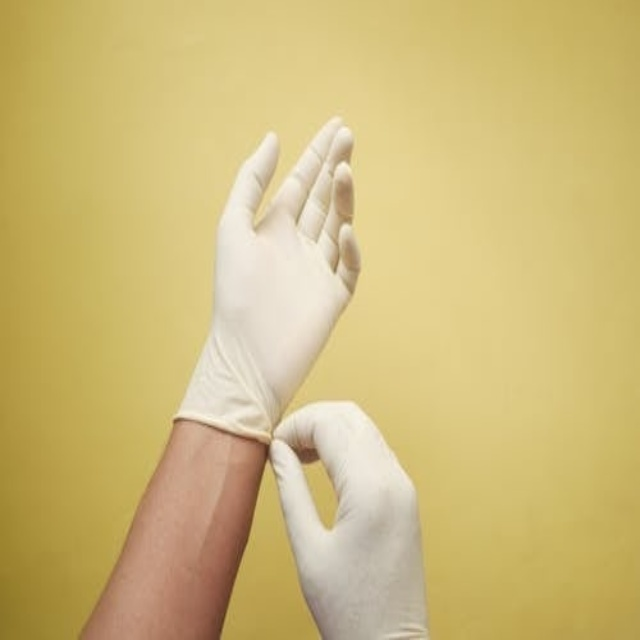Guantes: (174, 114, 361, 449), (266, 396, 433, 639)
